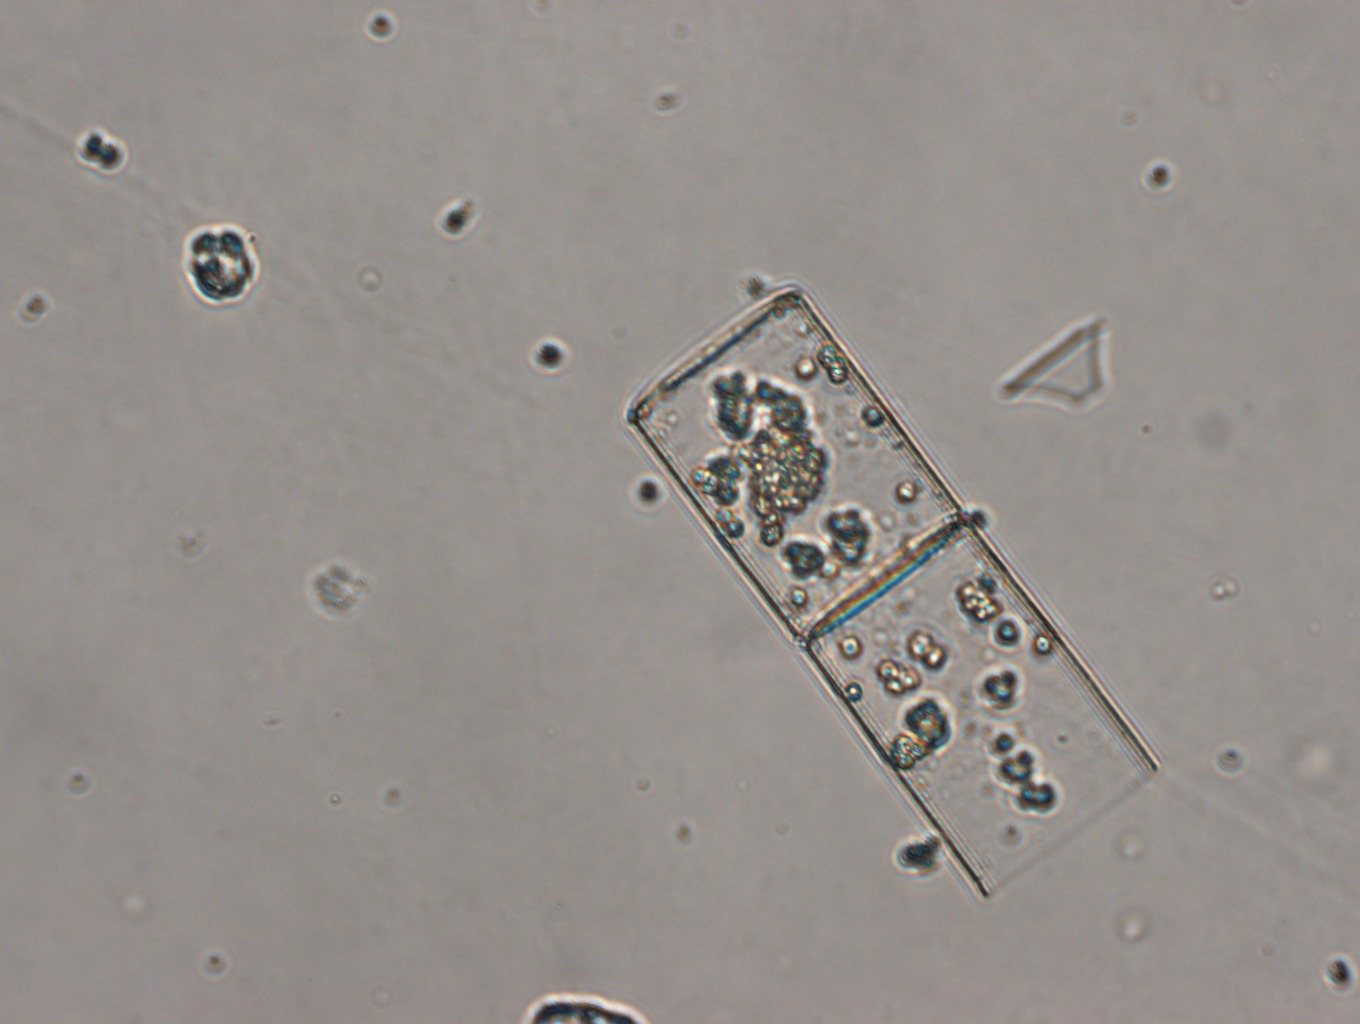guinardia flaccida: (620, 280, 1161, 898)
